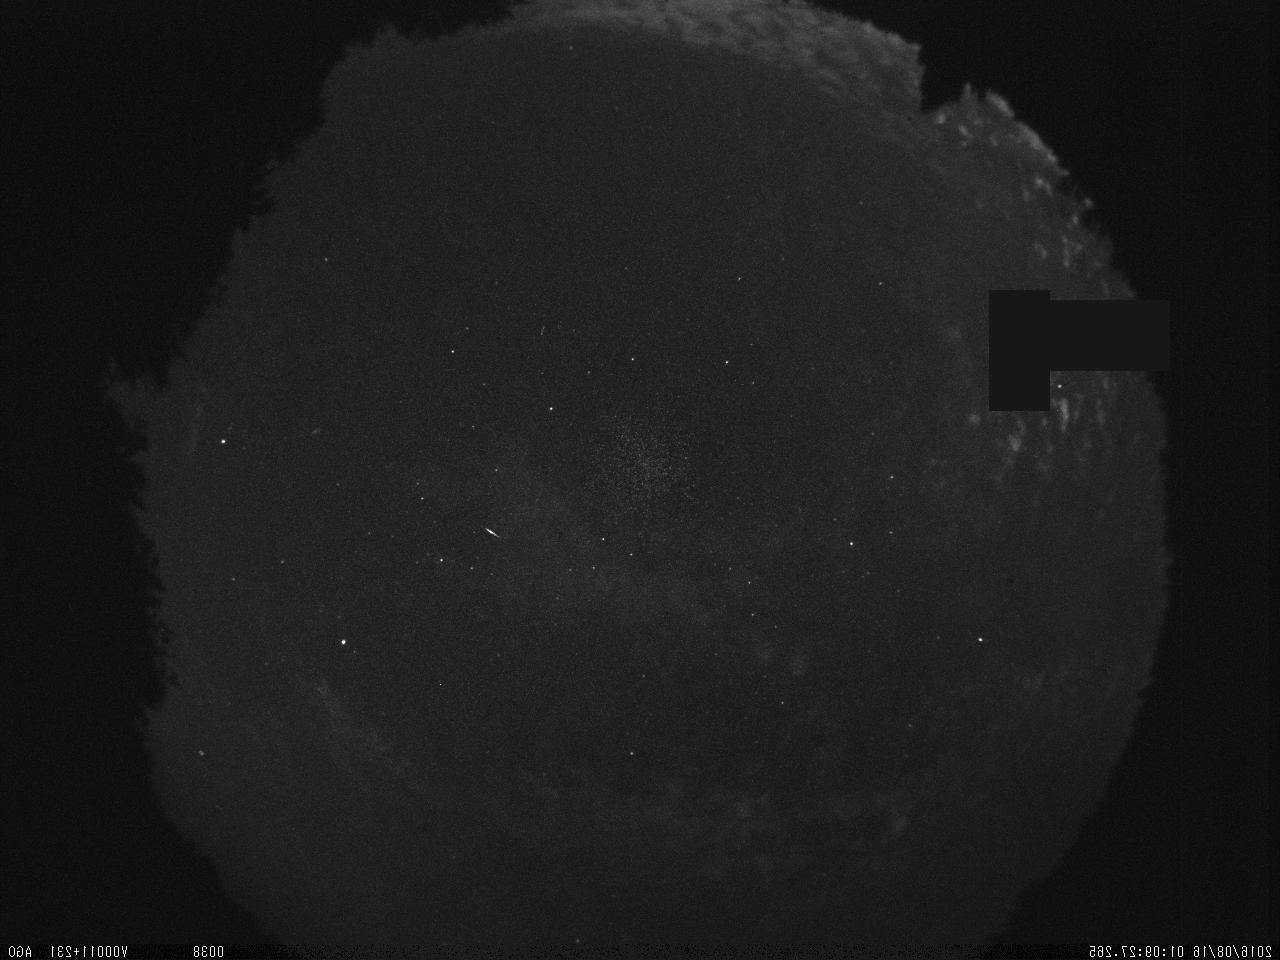meteor: (478, 526, 502, 544)
